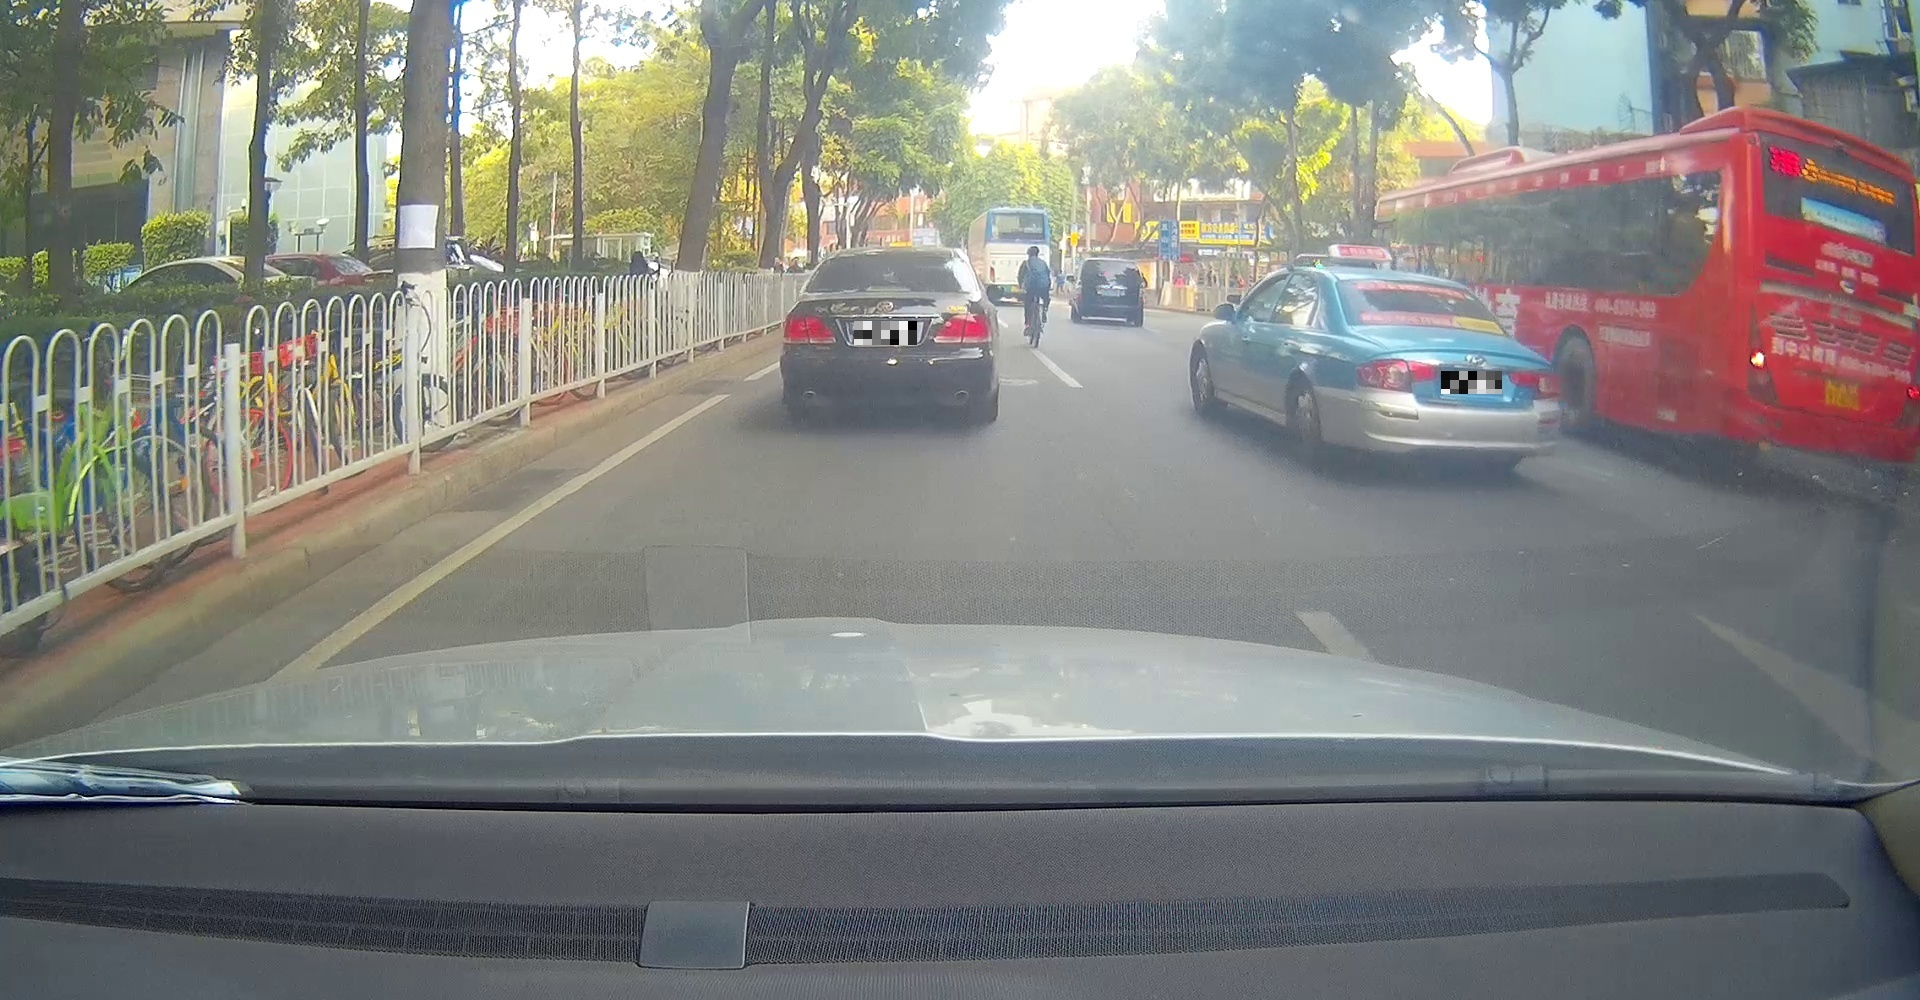L_light: (1355, 357, 1437, 393), (781, 311, 836, 346), (1745, 345, 1771, 382), (1076, 278, 1082, 294)
R_light: (932, 311, 996, 345), (1509, 367, 1561, 398), (1903, 377, 1920, 409), (1139, 280, 1145, 298)
T_light: (1823, 143, 1865, 161), (1403, 279, 1436, 291), (866, 284, 910, 292), (1103, 260, 1117, 265)
day-brake: (1738, 107, 1920, 475)
day-no: (1332, 266, 1562, 470), (782, 246, 997, 428), (1076, 258, 1145, 327)
plate_1: (855, 321, 917, 345)
plate_2: (1441, 371, 1502, 393)
